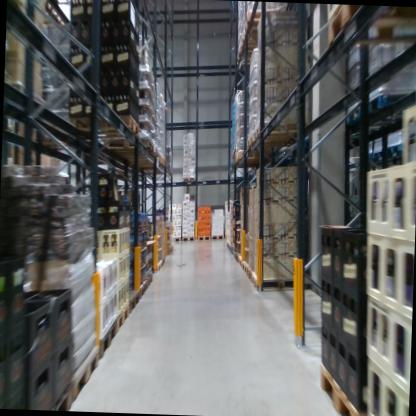pallet: (242, 6, 416, 49), (315, 356, 370, 416), (66, 108, 143, 142), (346, 101, 416, 138), (360, 85, 416, 124), (69, 342, 99, 408), (253, 115, 310, 145), (251, 270, 310, 298), (246, 131, 306, 154), (101, 136, 154, 154), (97, 315, 118, 359), (234, 46, 265, 69), (238, 150, 279, 166), (52, 383, 73, 411), (122, 288, 139, 316), (239, 32, 265, 50), (117, 298, 130, 331), (242, 258, 257, 276), (153, 259, 163, 275), (182, 174, 196, 185), (180, 232, 194, 242), (146, 272, 153, 292), (171, 235, 182, 246), (140, 282, 147, 299), (211, 233, 224, 242), (232, 146, 239, 160), (198, 234, 212, 241), (159, 255, 166, 269), (248, 269, 254, 285), (235, 251, 243, 261), (238, 256, 244, 268)
